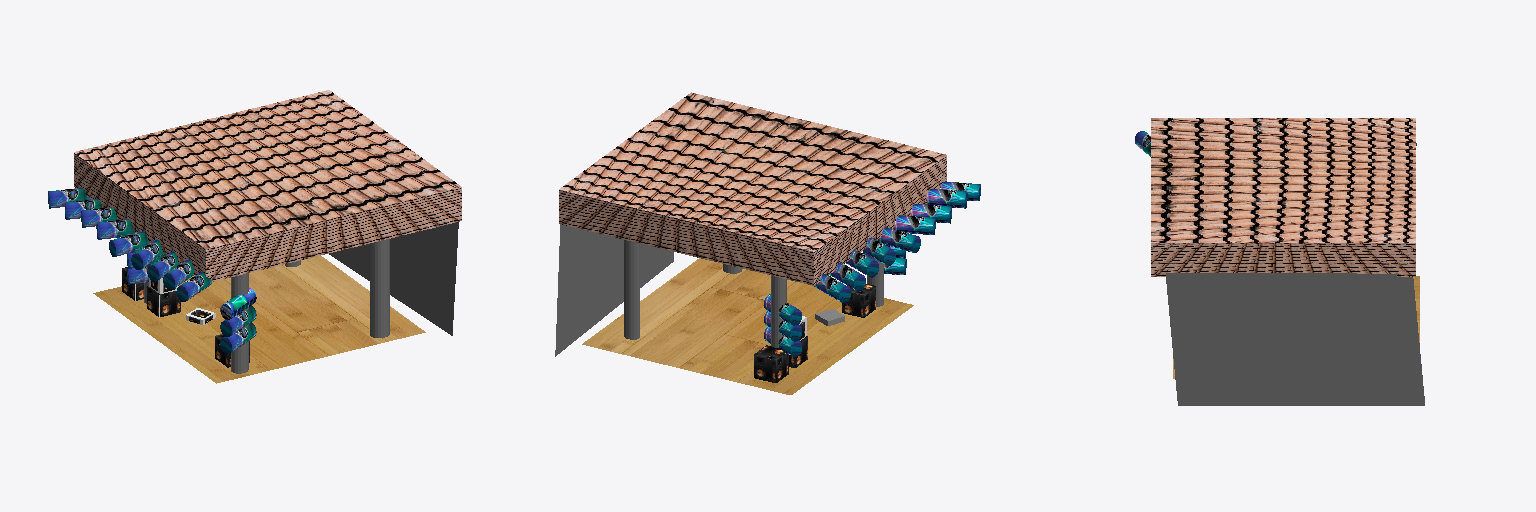
3 renders of one model, left to right at view 1: azimuth 30°, elevation 25°; view 2: azimuth 150°, elevation 25°; view 3: azimuth 270°, elevation 25°, orthographic.
Parts seen in each view (by area): view 1: Box004, Plane001, Plane002, Tube004, Tube002, Box006, Cylinder005, Cylinder004, Cylinder015, Cylinder009, Cylinder002, Cylinder006 (+5 smaller); view 2: Box004, Plane001, Plane002, Tube003, Box001, Tube001, Box002, Cylinder005, Cylinder006, Cylinder008, Cylinder007, Cylinder002 (+3 smaller); view 3: Box004, Plane002.
Part boxes in pixels (x1,y1,x2,y2): Box004: (74, 90, 461, 281); Plane001: (93, 256, 425, 383); Plane002: (329, 222, 458, 335); Tube004: (370, 239, 389, 337); Tube002: (231, 273, 248, 373); Box006: (147, 285, 180, 317); Cylinder005: (109, 231, 149, 256); Cylinder004: (96, 219, 136, 239); Cylinder015: (220, 288, 256, 320); Cylinder009: (176, 272, 211, 301); Cylinder002: (48, 188, 90, 208); Cylinder006: (131, 239, 164, 269); Box004: (559, 92, 946, 285); Plane001: (582, 258, 913, 394); Plane002: (555, 224, 673, 356); Tube003: (624, 240, 639, 339); Box001: (754, 345, 788, 382); Tube001: (771, 276, 786, 347); Box002: (842, 284, 875, 317); Cylinder005: (877, 227, 920, 252); Cylinder006: (893, 215, 935, 234); Cylinder008: (926, 189, 967, 208); Cylinder007: (911, 204, 951, 223); Cylinder002: (814, 274, 850, 302); Box004: (1151, 118, 1415, 276); Plane002: (1166, 273, 1424, 405).
Size of the model in its own units: 103 by 55.17 by 88.75.
Materials: 6 (5 with a texture image).